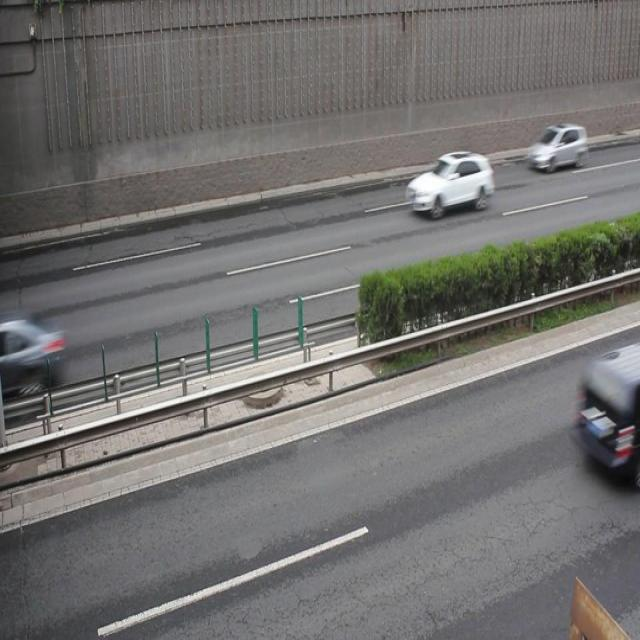car: (406, 148, 493, 216), (0, 314, 64, 401), (526, 120, 588, 172)
truck: (574, 341, 640, 492)
